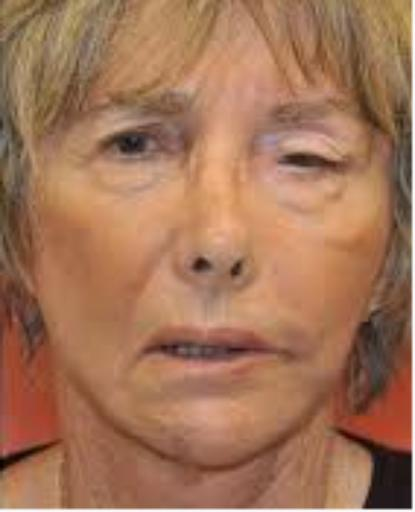left_eye: (273, 151, 345, 183)
left_lip_corner: (262, 340, 295, 367)
right_eye: (100, 123, 185, 166)
right_lip_corner: (133, 339, 155, 370)
